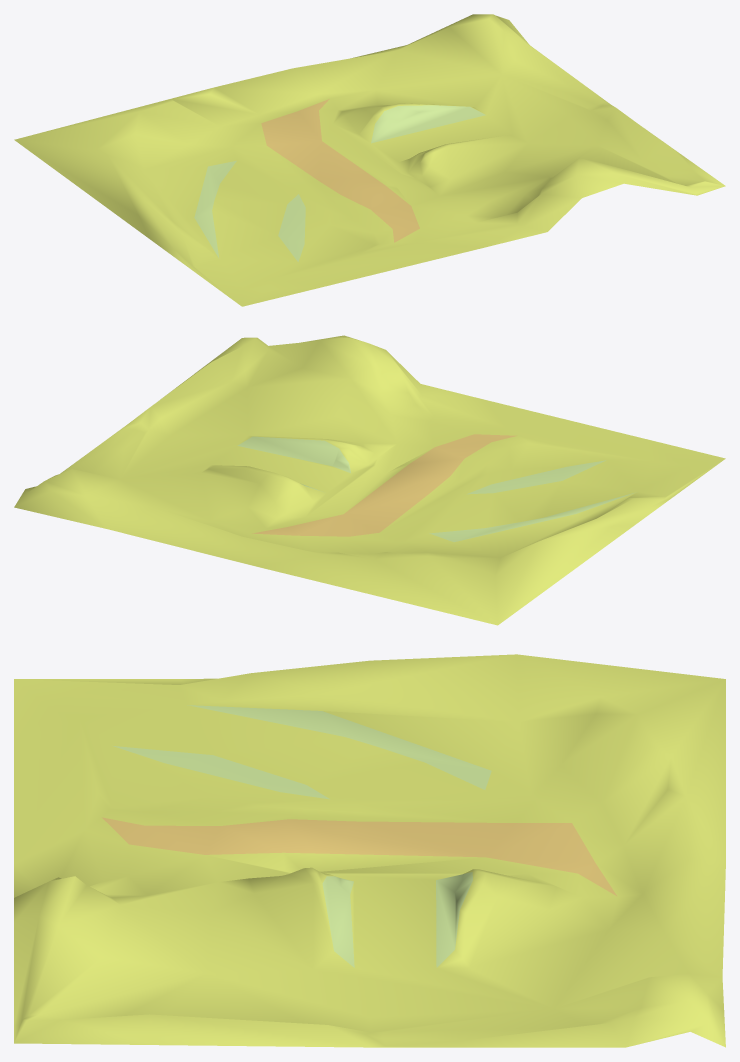
File: groud4.fbx
3 views of the same model, one above another, from view 1: azimuth 30°, elevation 25°; view 2: azimuth 150°, elevation 25°; view 3: azimuth 270°, elevation 25° (orthographic). The views are drawn at different scales.
Visible parts, largest first — view 1: terraun; view 2: terraun; view 3: terraun.
Part boxes in pixels (x1,y1,x2,y2): terraun: [14, 14, 725, 306]; terraun: [14, 335, 725, 625]; terraun: [14, 654, 725, 1047].
Bounding box in the file's own units: 82785 × 8957 × 67601.
